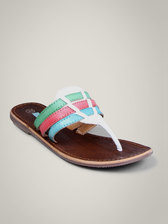shoes: (3, 93, 158, 168)
